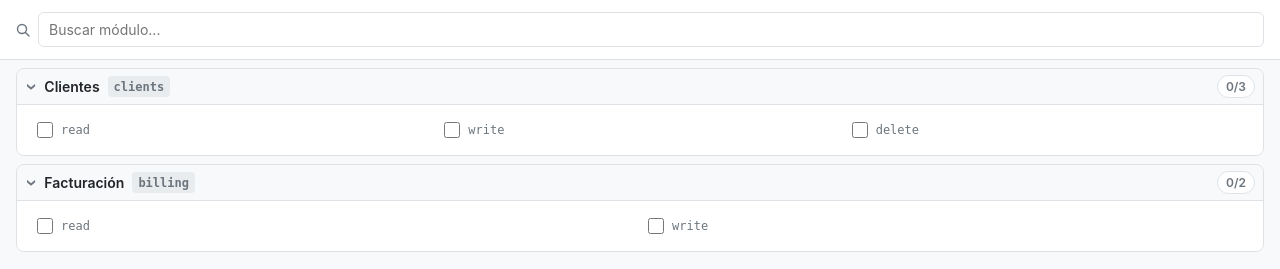
PermissionMatrix — search › filters modules by label when search query is typed
The width and height of the screenshot is (1280, 269).
Type "Factur" into the search field with placeholder "Buscar módulo..." at point(651, 30), box top-left (38, 12), bottom-right (1264, 47)
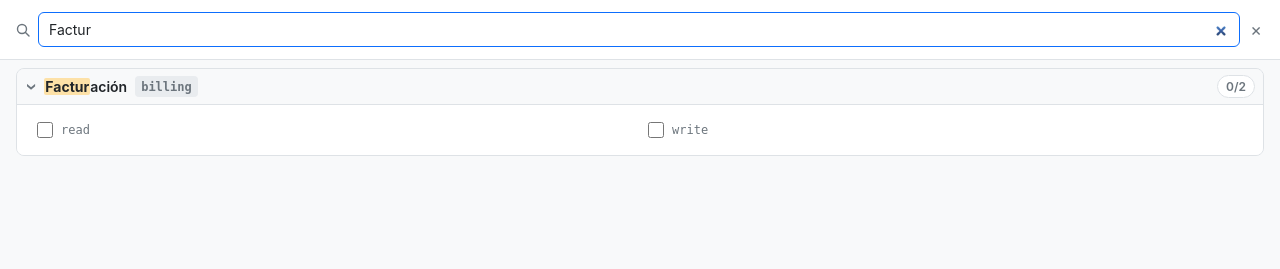
Expected: the element "Facturación" is shown, top-left (16, 68), bottom-right (1264, 156)
Expected: the button "Clientes" is gone
